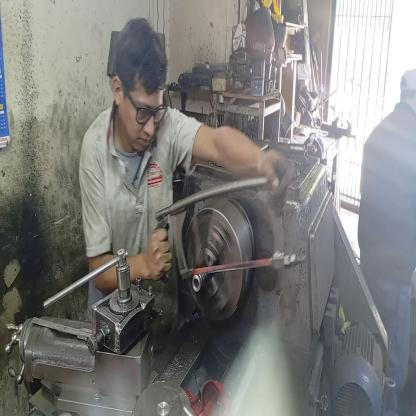lentes: (121, 85, 170, 131)
